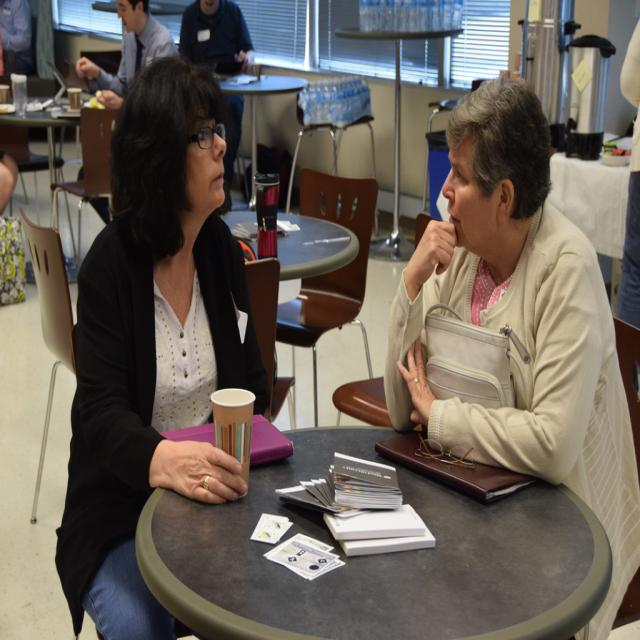chair: (275, 169, 378, 426), (18, 205, 78, 527), (50, 105, 120, 275), (242, 256, 294, 428), (612, 314, 640, 471)
desk: (135, 428, 613, 640)
person: (359, 76, 640, 634), (58, 50, 277, 640), (77, 0, 178, 97), (616, 11, 640, 333), (0, 0, 36, 80)
